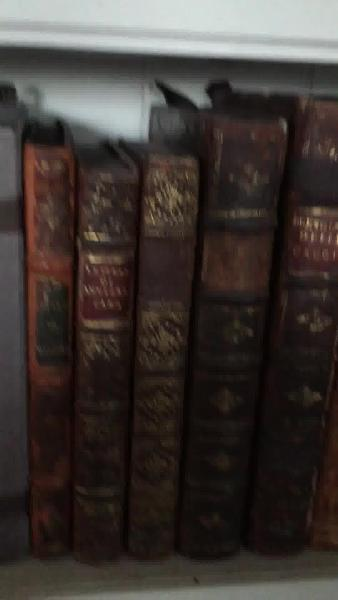Aa6-28: (23, 137, 76, 560)
Aa6-29: (75, 150, 135, 562)
Aa6-30: (139, 145, 191, 558)
Aa6-31: (186, 106, 272, 559)
Aa6-32: (273, 96, 338, 587)
